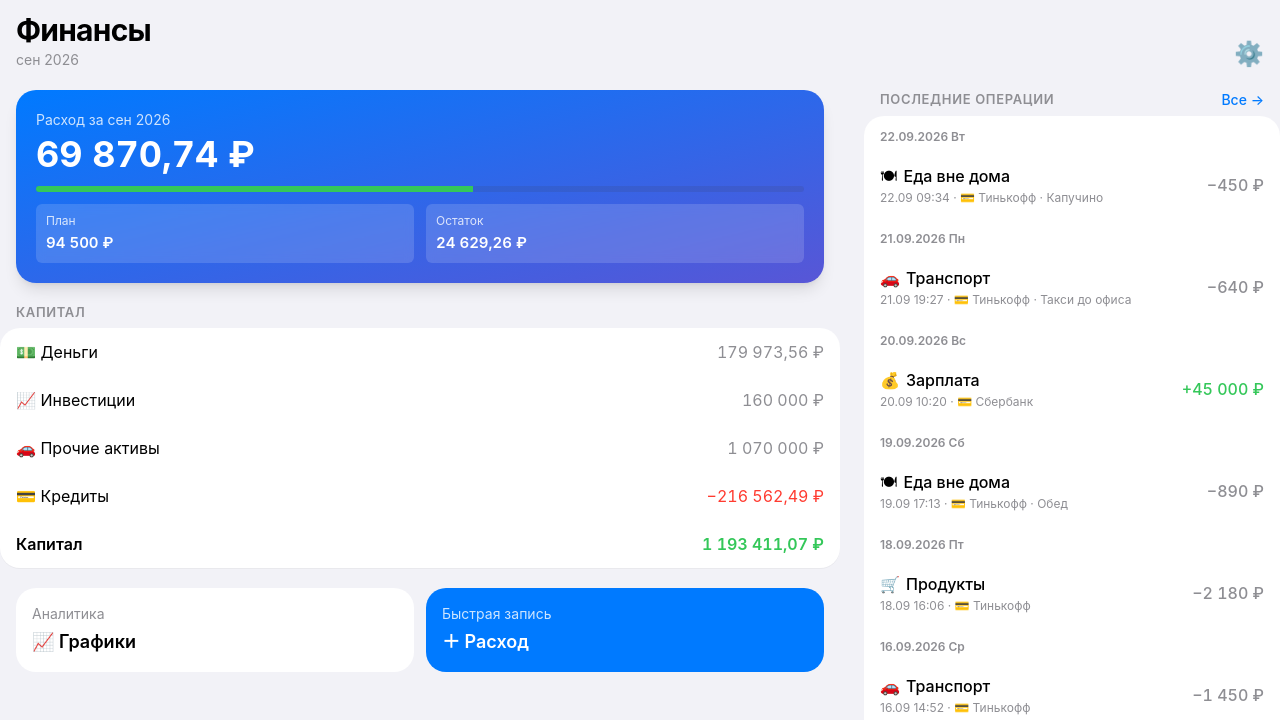
Test case: История операций: поиск, категория, «Показать ещё» › «Показать ещё» подгружает следующую страницу по offset, пока список не закончится
Expected: the text "Расход за сен 2026" is shown, left=36, top=111, right=170, bottom=128
Click the button "Все →": (1243, 100) left=1221, top=90, right=1264, bottom=110
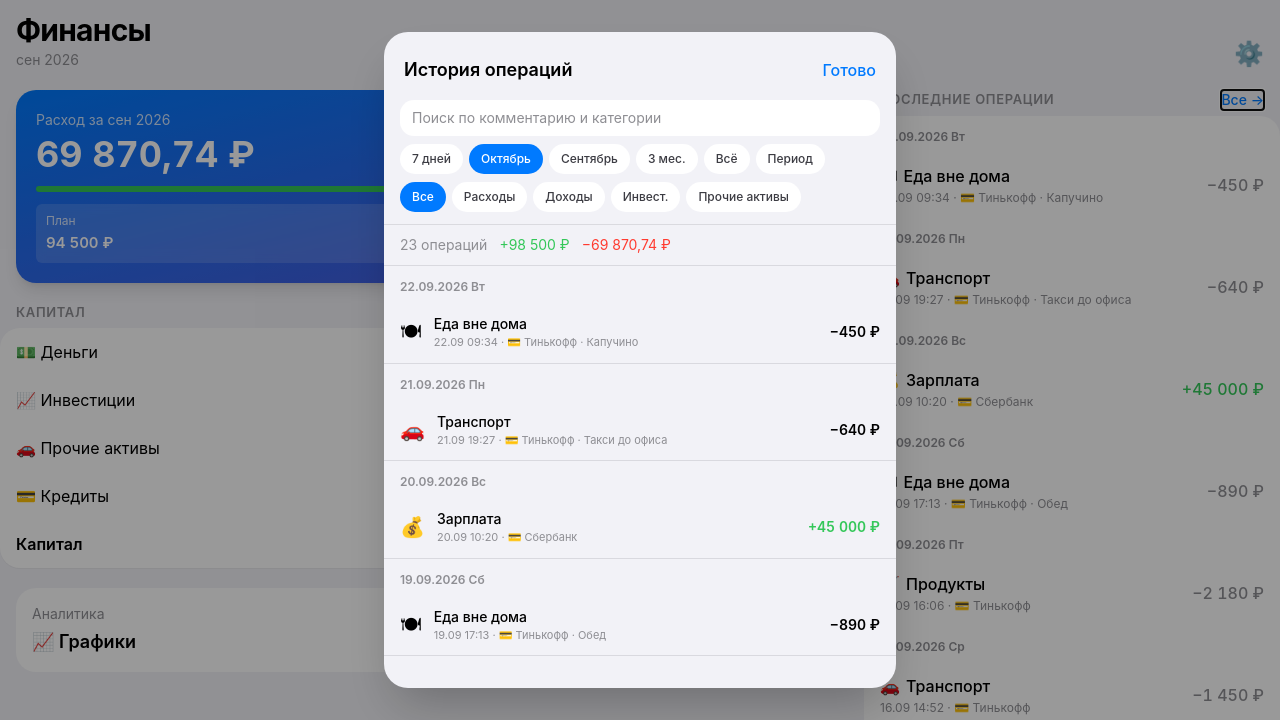
Expected: the field named "Поиск операций" is shown, left=400, top=100, right=880, bottom=136
Click the button "Всё": (727, 159) left=704, top=144, right=750, bottom=174
(page scrolled)
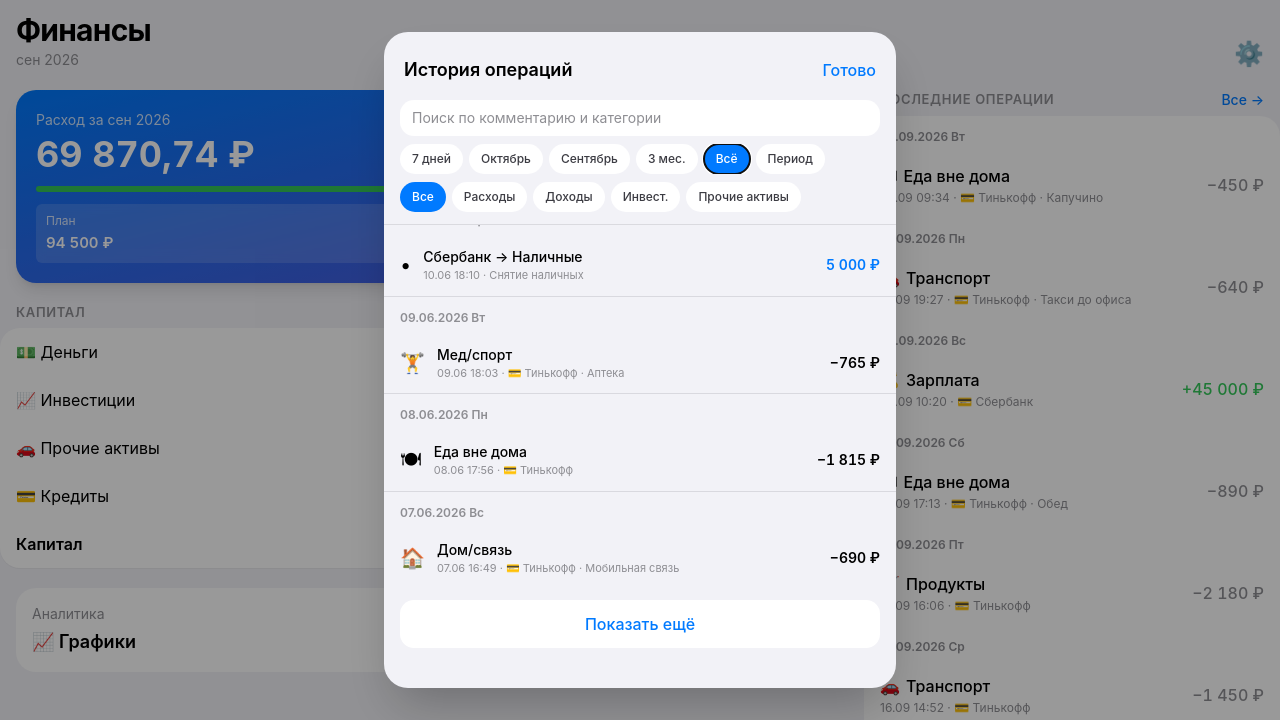
Click the button "Показать ещё": (640, 624) left=400, top=600, right=880, bottom=648
(page scrolled)
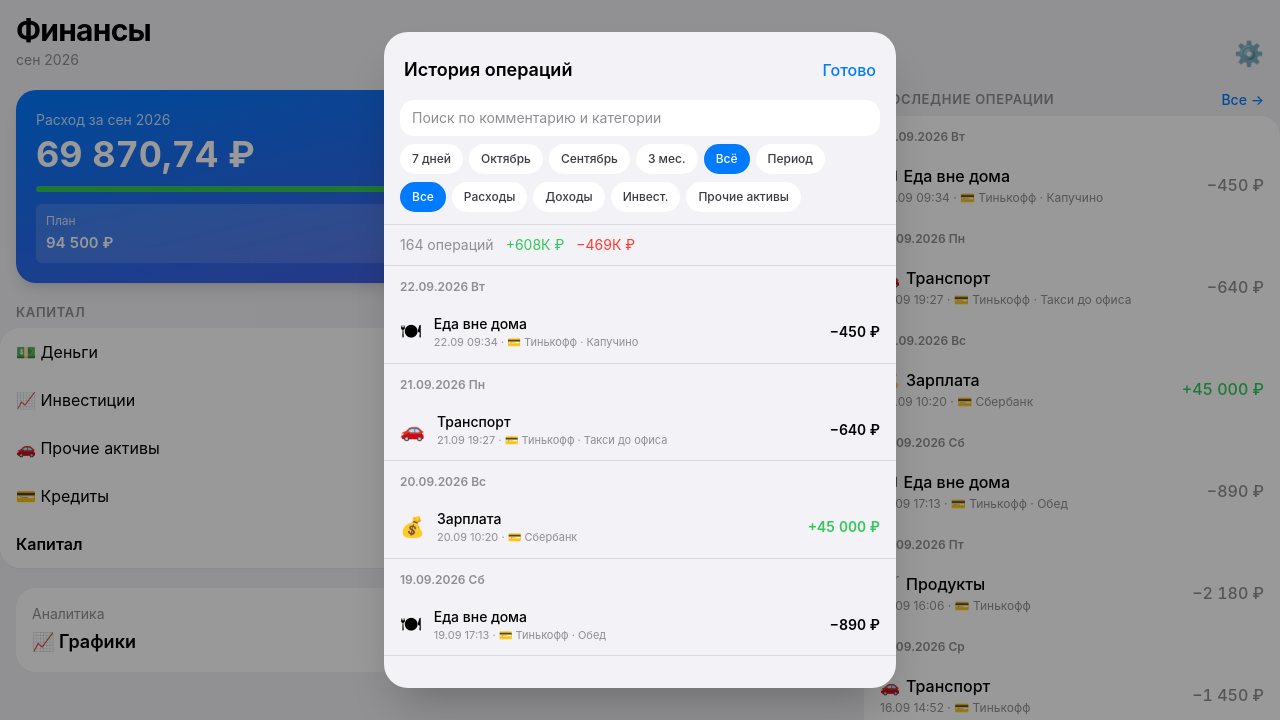
Expected: the button "Показать ещё" is gone
